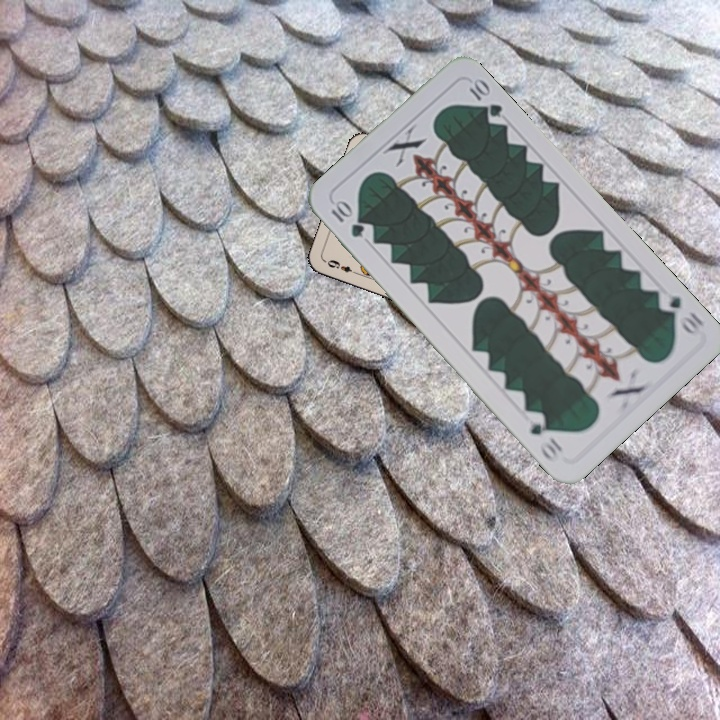E9: (323, 256, 361, 277)
G10: (653, 291, 708, 337), (327, 196, 367, 241)
